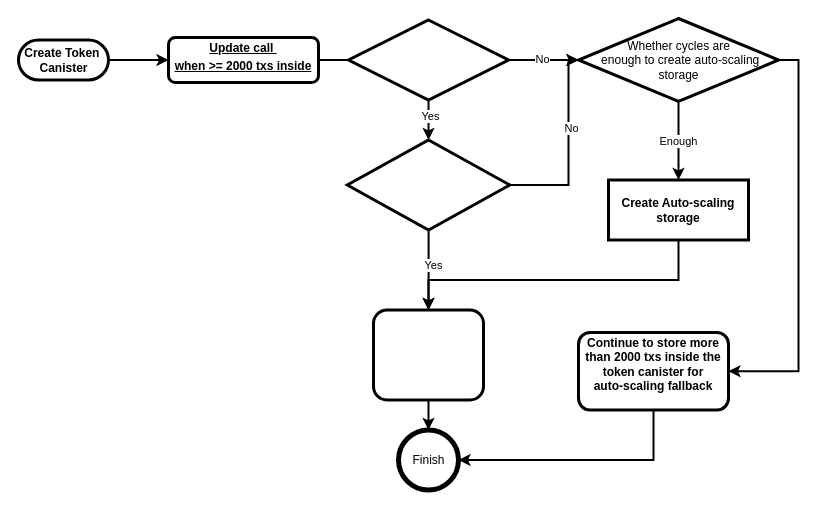
This 825x510 diagram has some shape labels left out. The centre of each missing label's shape, as x and y in pixels:
"Batch move 1000 txs to auto-scaling storage" belongs at pixel 428 354.
"Can auto-scaling storagebe able to store the next 1000 txs?" belongs at pixel 428 184.
"Whether a auto-scaling storage exist?" belongs at pixel 428 59.
